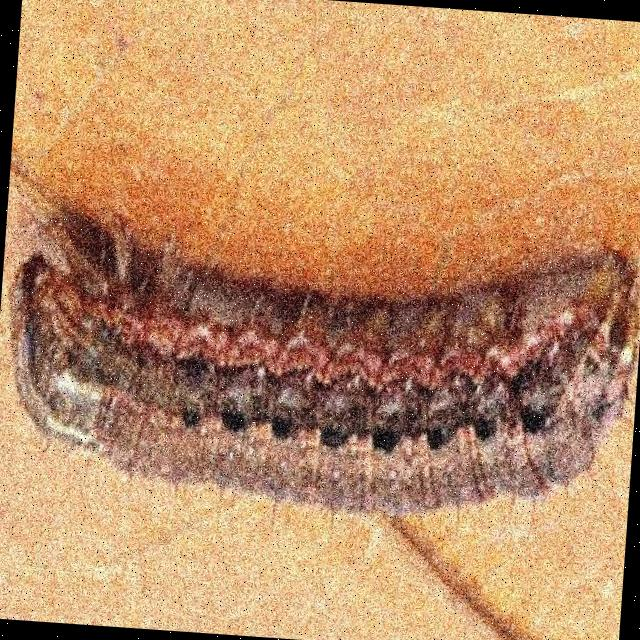worm: (1, 191, 640, 538)
